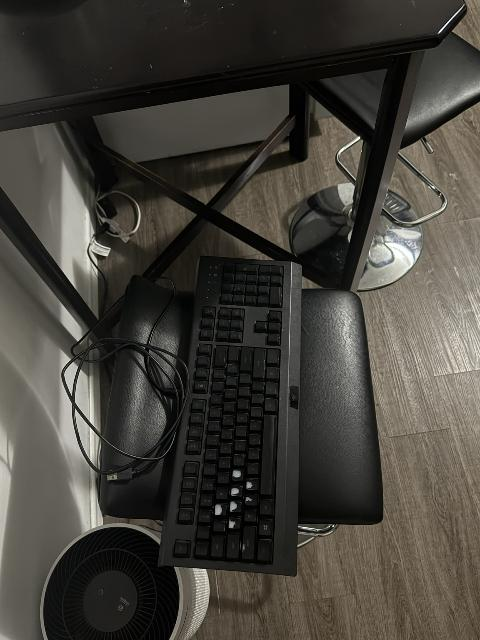ahkeyboard: (151, 242, 309, 578)
